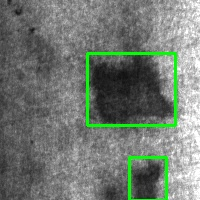patches: (87, 53, 175, 125), (129, 157, 166, 200)
